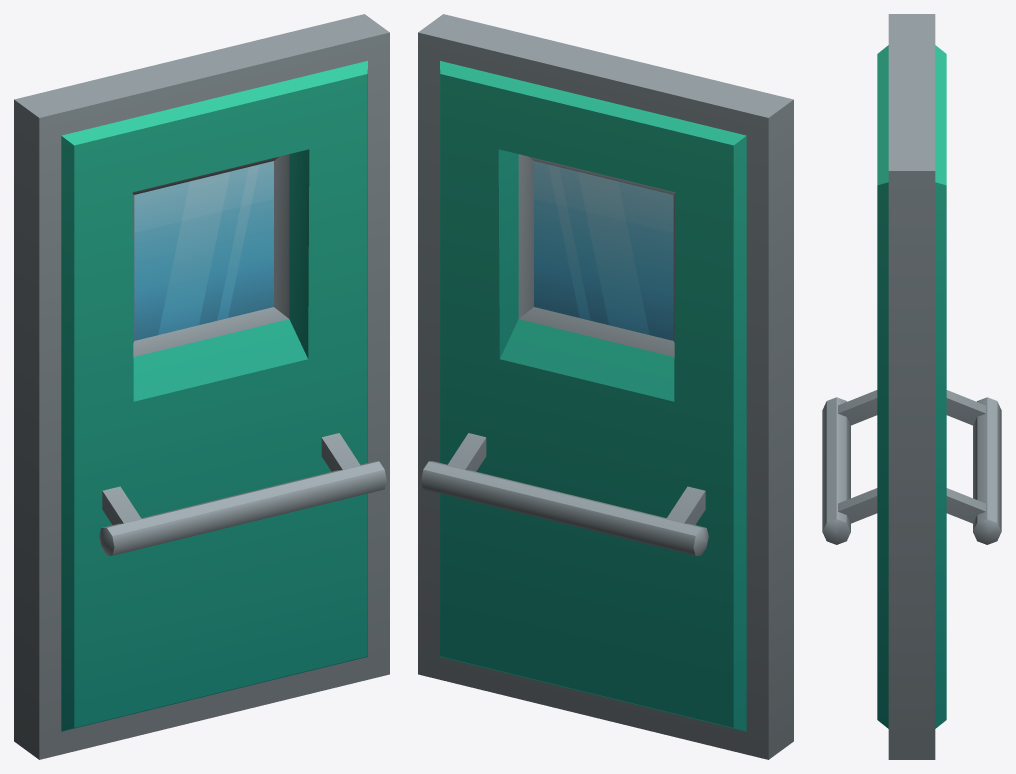
Rendered from door_A.obj.
3 views of the same model, side by side, from view 1: azimuth 30°, elevation 25°; view 2: azimuth 150°, elevation 25°; view 3: azimuth 270°, elevation 25° (orthographic). The views are drawn at different scales.
Visible parts, largest first — view 1: door_A_Cube.260; view 2: door_A_Cube.260; view 3: door_A_Cube.260.
Part boxes in pixels (left/top/right/bottom): door_A_Cube.260: left=14, top=14, right=389, bottom=759; door_A_Cube.260: left=418, top=14, right=793, bottom=759; door_A_Cube.260: left=822, top=14, right=1001, bottom=759.
Bounding box in the file's own units: 1.6 × 2.8 × 0.7714.
Materials: 1 (1 with a texture image).
